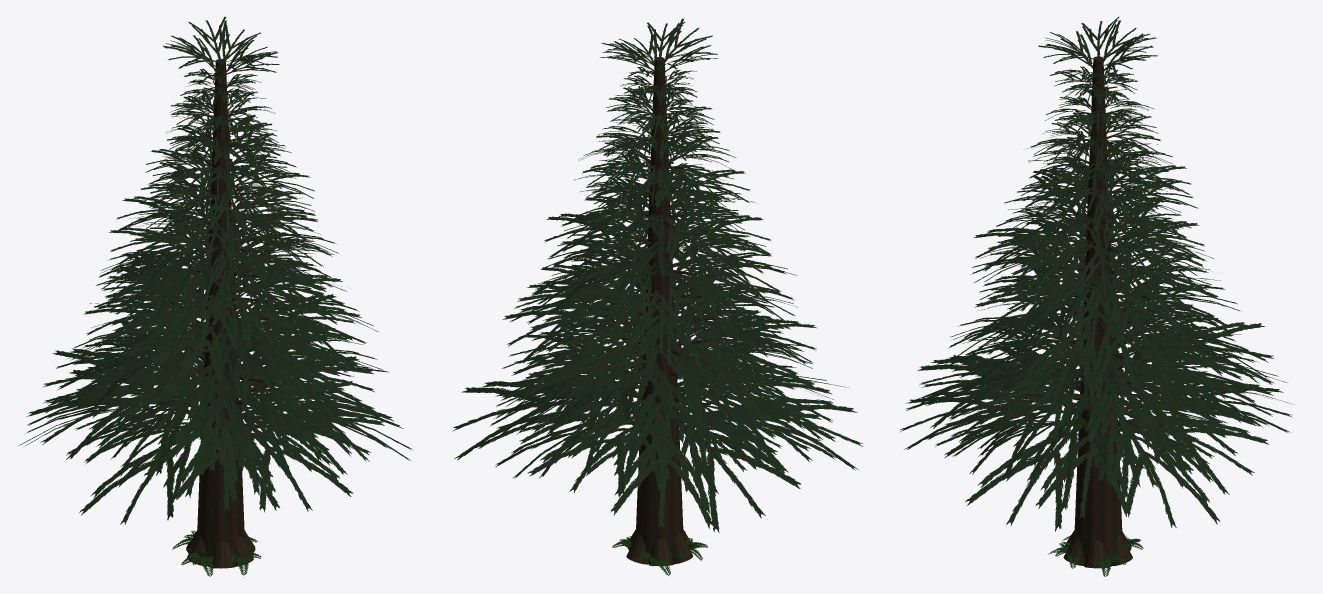
File: Tree_SugiCedar.fbx
The picture shows the model from 3 angles, left to right: view 1: azimuth 30°, elevation 25°; view 2: azimuth 150°, elevation 25°; view 3: azimuth 270°, elevation 25°; orthographic projection.
Parts seen in each view (by area): view 1: Tree_SugiCedar; view 2: Tree_SugiCedar; view 3: Tree_SugiCedar.
Boxes of the visible parts, left/top/right/bottom form: Tree_SugiCedar: left=18, top=16, right=412, bottom=577; Tree_SugiCedar: left=452, top=18, right=862, bottom=575; Tree_SugiCedar: left=899, top=16, right=1292, bottom=576.
Bounding box in the file's own units: 6.87 × 9.15 × 6.59.
